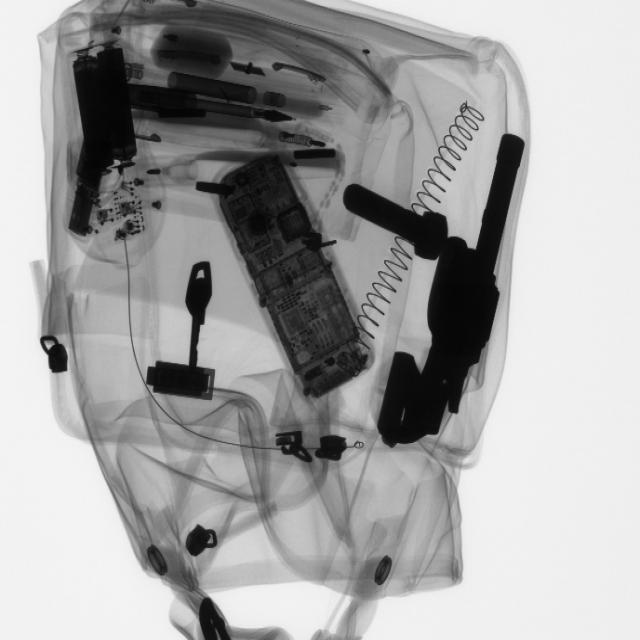GUN: (387, 128, 530, 447)
